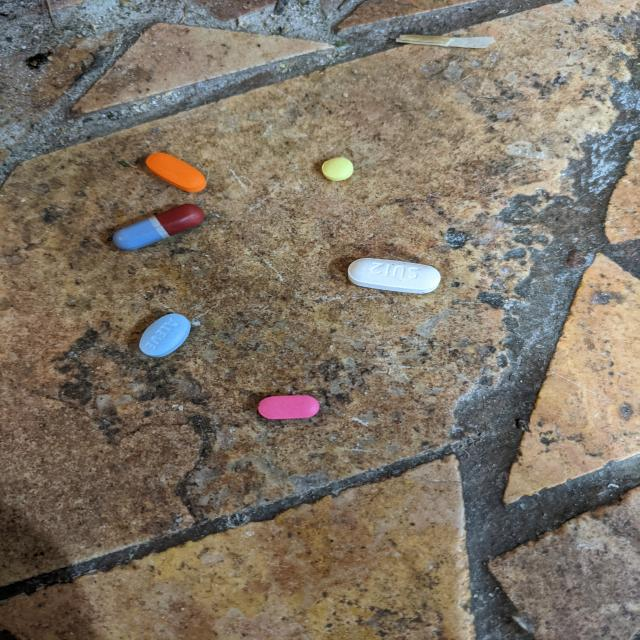non-organic waste: (112, 202, 206, 252), (346, 257, 442, 294), (144, 152, 208, 194), (138, 312, 192, 358), (256, 394, 321, 420), (320, 157, 354, 181)
